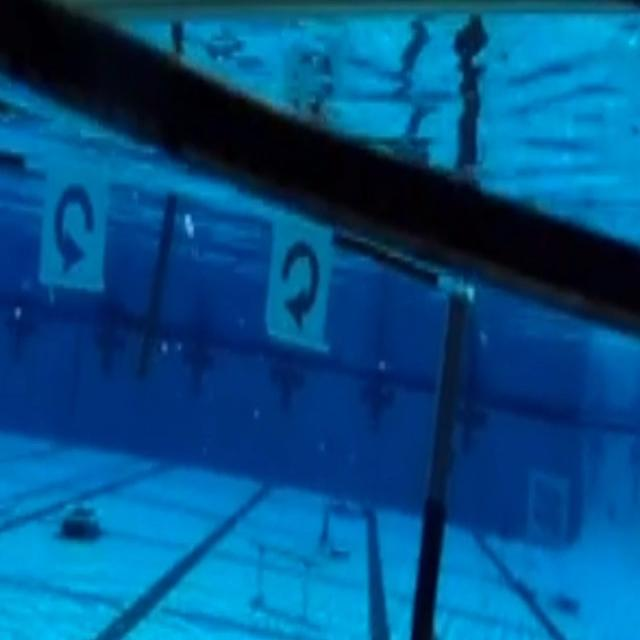Gate: (4, 141, 445, 628)
